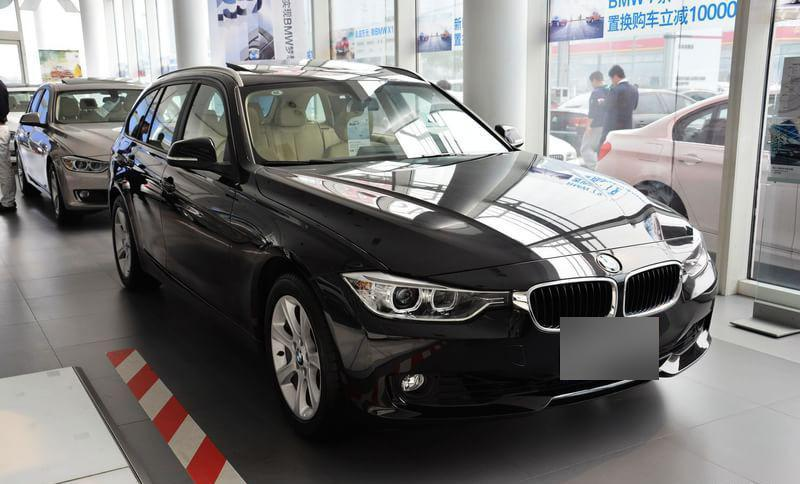Wagon: (108, 58, 719, 443)
